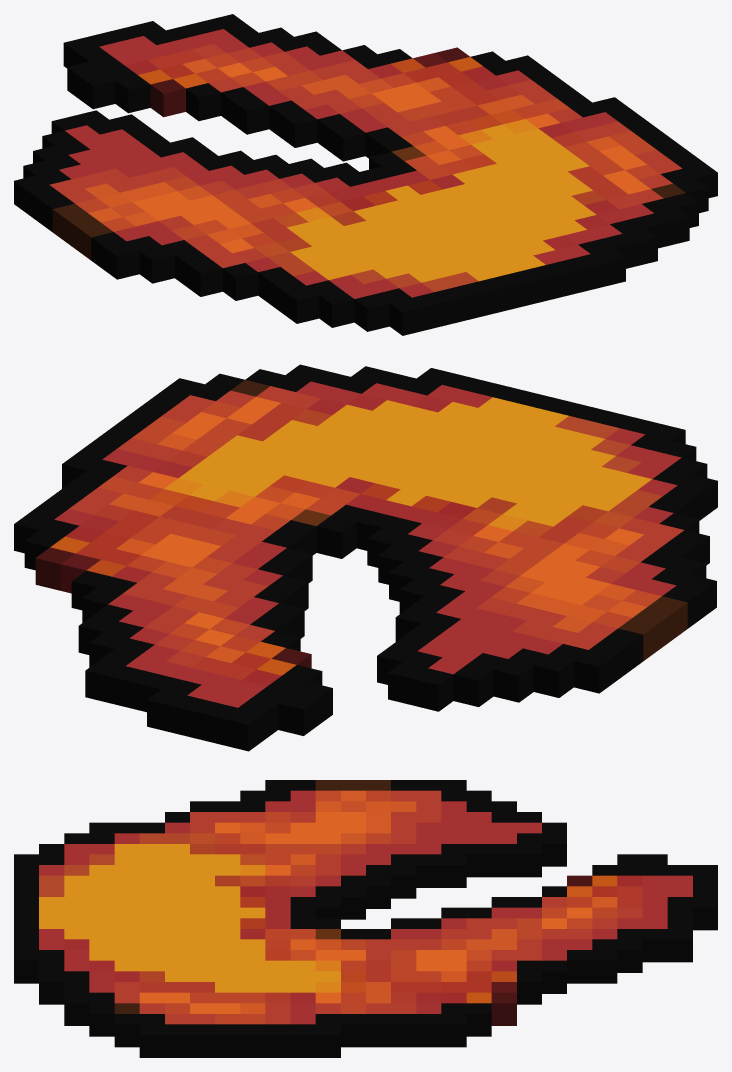
File: Flameemblem.gltf
The picture shows the model from 3 angles, top to bottom: view 1: azimuth 30°, elevation 25°; view 2: azimuth 150°, elevation 25°; view 3: azimuth 270°, elevation 25°; orthographic projection. The views are drawn at different scales.
Visible parts, largest first — view 1: Layer.1; view 2: Layer.1; view 3: Layer.1.
Boxes of the visible parts, x1,y1,x2,y2 form: Layer.1: (14,14,717,335); Layer.1: (14,364,717,751); Layer.1: (14,780,717,1057).
Bounding box in the file's own units: 24 × 1 × 28.
Materials: 1 (1 with a texture image).
